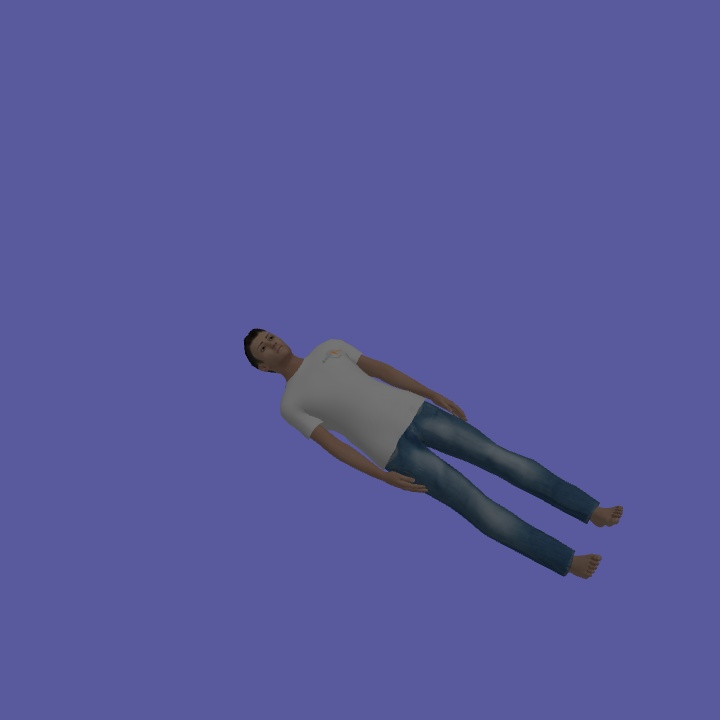victim: (236, 326, 628, 584)
